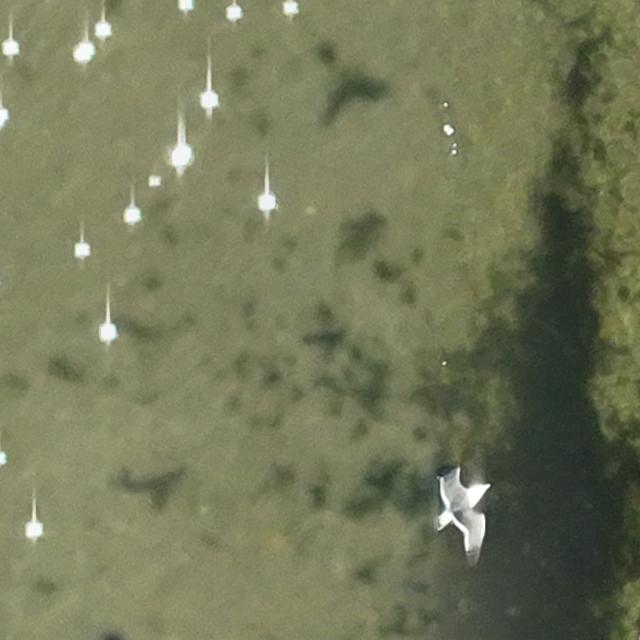F: (446, 478, 493, 556)
